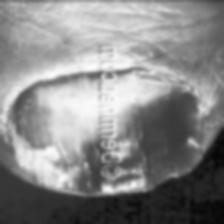Toxin: (10, 66, 207, 182)
